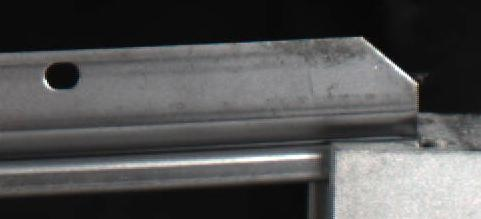cut: (262, 35, 417, 179)
holes: (42, 60, 83, 91)
